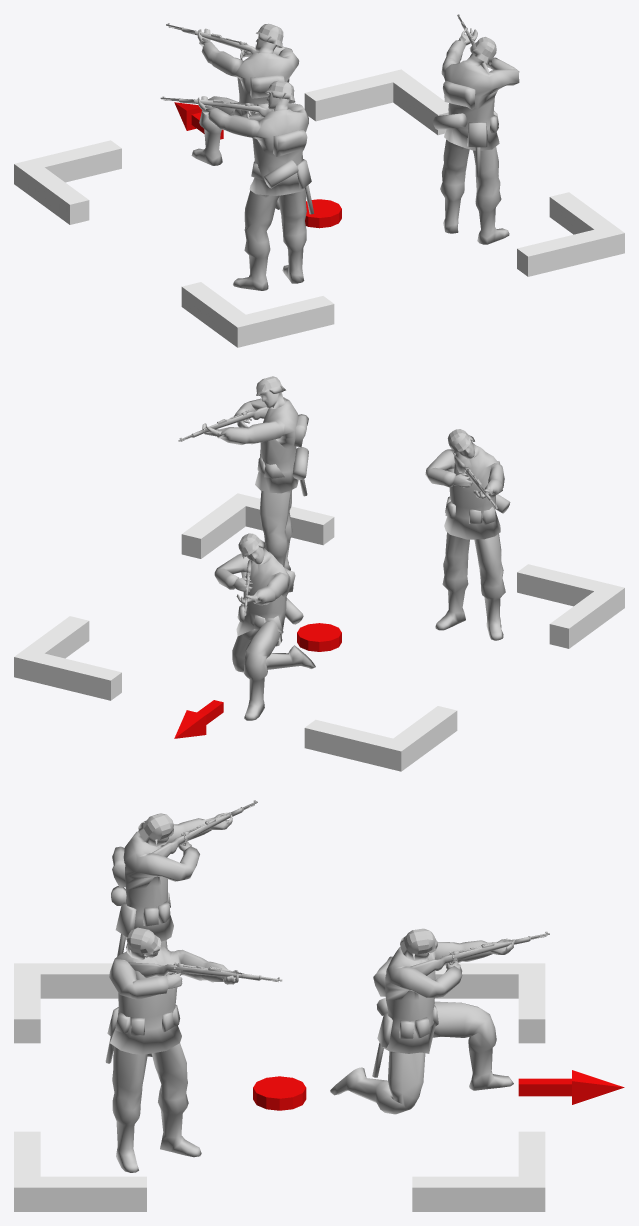
The picture shows the model from 3 angles, top to bottom: view 1: azimuth 30°, elevation 25°; view 2: azimuth 150°, elevation 25°; view 3: azimuth 270°, elevation 25°; orthographic projection. The views are drawn at different scales.
Parts seen in each view (by area): view 1: i_frame_Cube.002, gr_l_skin.003, gr_r_skin.000, gr_c_skin.000_skin.007, pointer_Cylinder, gr_l_w_SketchUp.010_ID70, arrow_Cube, gr_c_w_SketchUp.010_ID70.001, gr_r_h_german_03.000_german_03.000; view 2: i_frame_Cube.002, gr_l_skin.003, gr_c_skin.000_skin.007, gr_r_skin.000, pointer_Cylinder, arrow_Cube, gr_r_w_SketchUp.010_ID70.002; view 3: i_frame_Cube.002, gr_c_skin.000_skin.007, gr_r_skin.000, gr_l_skin.003, arrow_Cube, pointer_Cylinder, gr_r_w_SketchUp.010_ID70.002, gr_c_w_SketchUp.010_ID70.001, gr_c_h_german_03.002_german_03.001, gr_l_h_german_03.000_german_03.002, gr_r_h_german_03.000_german_03.000, gr_l_w_SketchUp.010_ID70.
Boxes of the visible parts, bbox=[...] form: i_frame_Cube.002: bbox=[14, 69, 624, 347]; gr_l_skin.003: bbox=[197, 92, 314, 290]; gr_r_skin.000: bbox=[433, 28, 519, 244]; gr_c_skin.000_skin.007: bbox=[191, 28, 302, 209]; pointer_Cylinder: bbox=[305, 199, 341, 228]; gr_l_w_SketchUp.010_ID70: bbox=[160, 96, 274, 116]; arrow_Cube: bbox=[174, 102, 223, 139]; gr_c_w_SketchUp.010_ID70.001: bbox=[166, 23, 258, 54]; gr_r_h_german_03.000_german_03.000: bbox=[469, 37, 496, 64]; i_frame_Cube.002: bbox=[14, 493, 624, 771]; gr_l_skin.003: bbox=[425, 441, 510, 640]; gr_c_skin.000_skin.007: bbox=[214, 547, 315, 720]; gr_r_skin.000: bbox=[202, 391, 308, 570]; pointer_Cylinder: bbox=[297, 623, 341, 651]; arrow_Cube: bbox=[174, 700, 223, 738]; gr_r_w_SketchUp.010_ID70.002: bbox=[178, 406, 268, 441]; i_frame_Cube.002: bbox=[14, 963, 545, 1211]; gr_c_skin.000_skin.007: bbox=[330, 938, 513, 1114]; gr_r_skin.000: bbox=[105, 945, 238, 1172]; gr_l_skin.003: bbox=[111, 812, 232, 1056]; arrow_Cube: bbox=[518, 1070, 624, 1104]; pointer_Cylinder: bbox=[253, 1076, 306, 1110]; gr_r_w_SketchUp.010_ID70.002: bbox=[128, 962, 282, 981]; gr_c_w_SketchUp.010_ID70.001: bbox=[410, 931, 549, 975]; gr_c_h_german_03.002_german_03.001: bbox=[400, 928, 437, 960]; gr_l_h_german_03.000_german_03.002: bbox=[138, 813, 173, 846]; gr_r_h_german_03.000_german_03.000: bbox=[126, 927, 161, 960]; gr_l_w_SketchUp.010_ID70: bbox=[151, 800, 257, 857].
Size of the model in its own units: 4 by 1.97 by 4.6.
